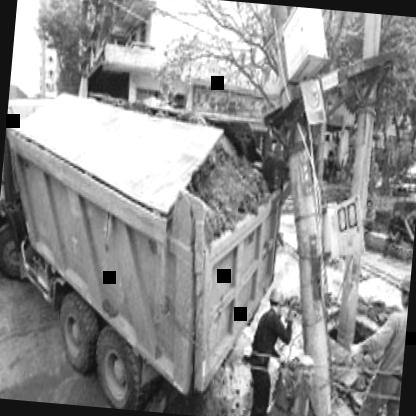helmet: (268, 282, 290, 322), (393, 269, 412, 314)
